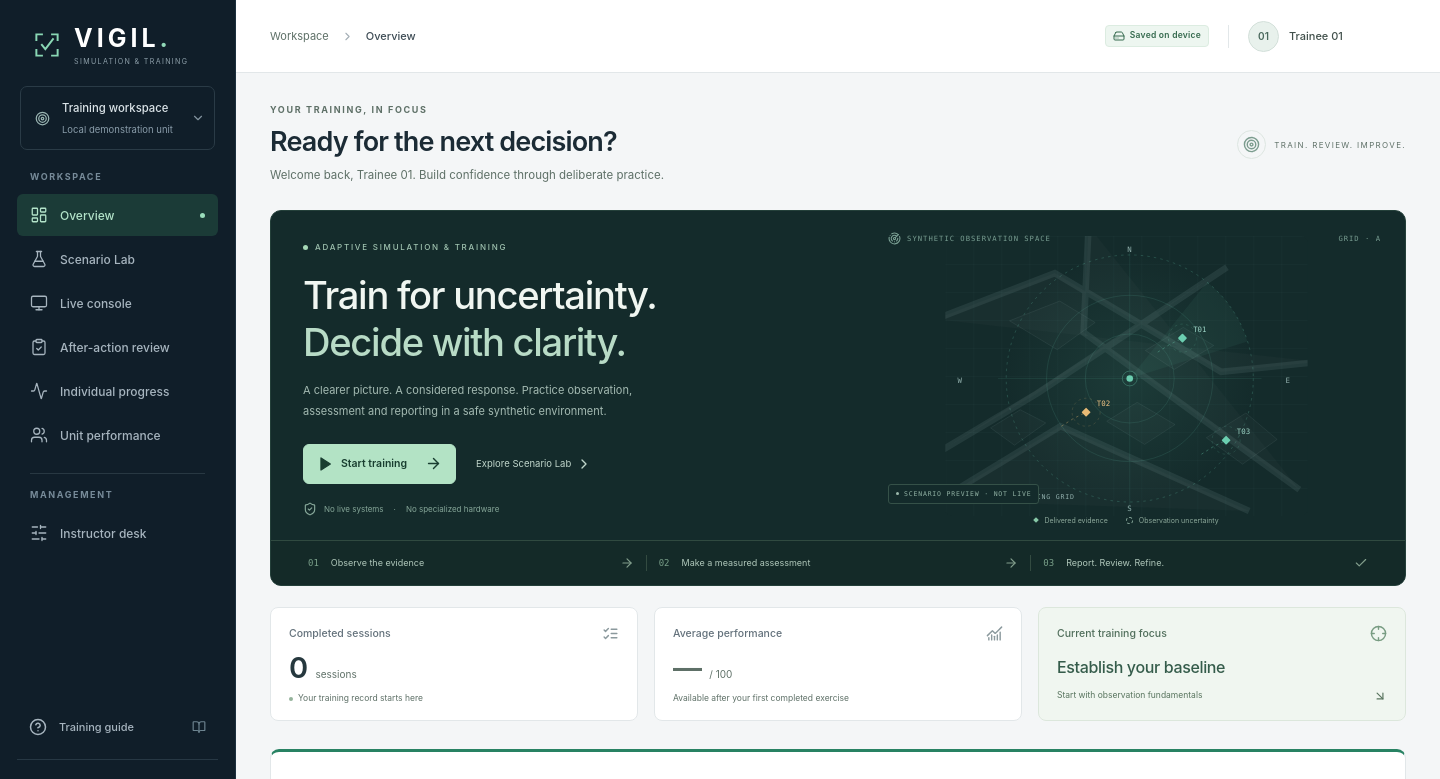
Test: Phase 1 navigation and foundation › navigates to Scenario Lab and marks the active navigation item
Click the button "Scenario Lab": (118, 259) [17,238,218,280]
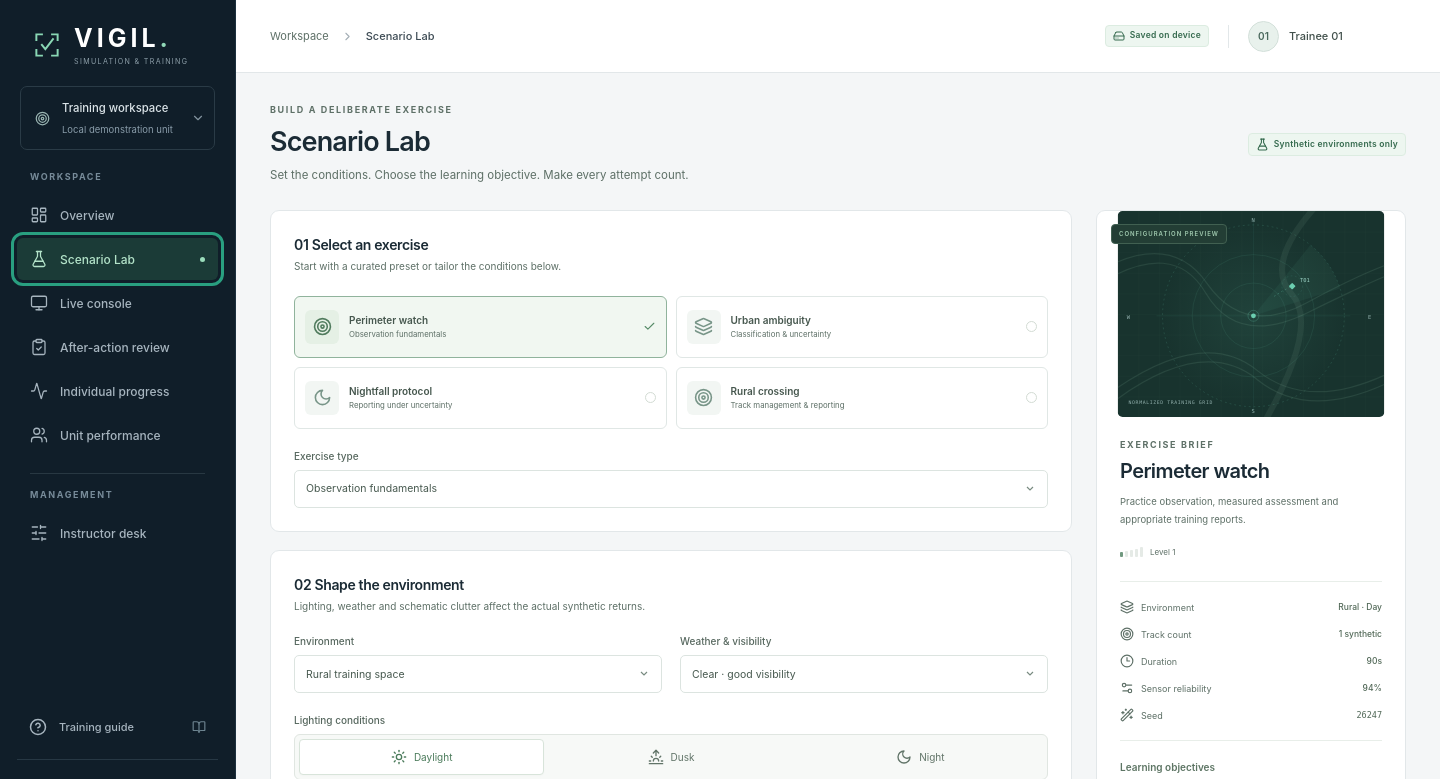
Expected: the heading "Scenario Lab" is shown, [270,125,430,158]
